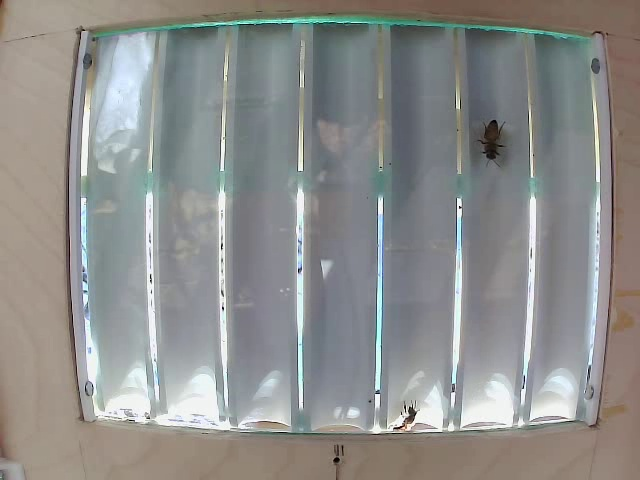bee: (480, 114, 505, 179)
